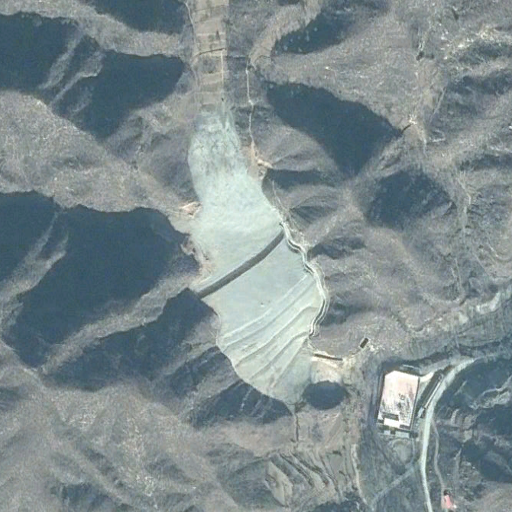tp: (189, 103, 327, 408)
